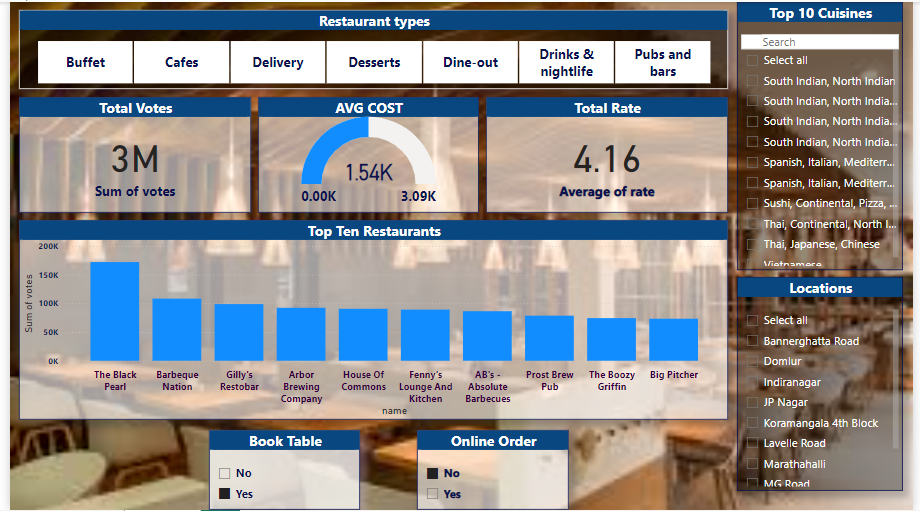

Layout of this report page (visuals, bound fields, positions):
{"tool":"powerbi","page":{"name":"Restaurantwise sales insights dashboard","canvas":[1280,720],"ordinal":0},"visuals":[{"type":"gauge","title":"AVG COST","fields":{"Y":["Avg(zomato.approx_cost(for two people))"]},"box":[351.5,134.6,313.2,164.4],"z":0},{"type":"card","title":"Total Votes","fields":{"Values":["Sum(zomato.votes)"]},"box":[12.8,134.6,328.8,164.4],"z":1000},{"type":"card","title":"Total Rate","fields":{"Values":["Avg(zomato.rate)"]},"box":[674.6,134.6,343,164.4],"z":2000},{"type":"clusteredColumnChart","title":"Top Ten Restaurants","fields":{"Y":["Sum(zomato.votes)"],"Category":["zomato.name"]},"box":[12.8,309,1004.9,283.5],"z":3000},{"type":"slicer","title":"Restaurant types","fields":{"Values":["zomato.listed_in(type)"]},"box":[12.8,11.3,1004.9,112],"z":4000},{"type":"slicer","title":"Top 10 Cuisines","fields":{"Values":["zomato.cuisines"]},"box":[1030.4,0,235.3,379.8],"z":4001},{"type":"slicer","title":"Online Order","fields":{"Values":["zomato.online_order"]},"box":[576.9,606.6,215.4,113.4],"z":4002},{"type":"slicer","title":"Locations","fields":{"Values":["zomato.location"]},"box":[1030.4,389.8,235.3,303.3],"z":4003},{"type":"slicer","title":"Book Table","fields":{"Values":["zomato.book_table"]},"box":[282,606.6,214,113.4],"z":4004}]}

Visuals, with their boxes in screenshot pixels (x1, y1, x2, y2), scaled from the page's 1280x720 canvas onto the 920x511 screenshot:
"AVG COST" gauge: l=253, t=96, r=478, b=212
"Total Votes" card: l=9, t=96, r=246, b=212
"Total Rate" card: l=485, t=96, r=731, b=212
"Top Ten Restaurants" clusteredColumnChart: l=9, t=219, r=731, b=421
"Restaurant types" slicer: l=9, t=8, r=731, b=88
"Top 10 Cuisines" slicer: l=741, t=0, r=910, b=270
"Online Order" slicer: l=415, t=431, r=569, b=510
"Locations" slicer: l=741, t=277, r=910, b=492
"Book Table" slicer: l=203, t=431, r=356, b=510
